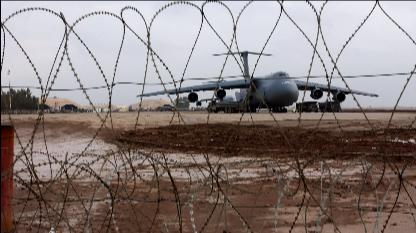C17: (136, 50, 378, 112)
C2: (172, 78, 236, 106)
